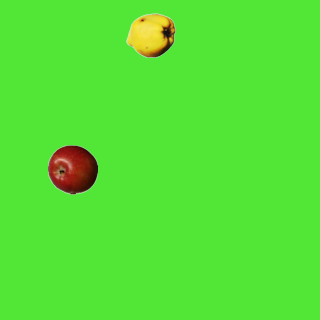Apple Braeburn: (47, 144, 97, 194)
Quince: (125, 10, 175, 60)
